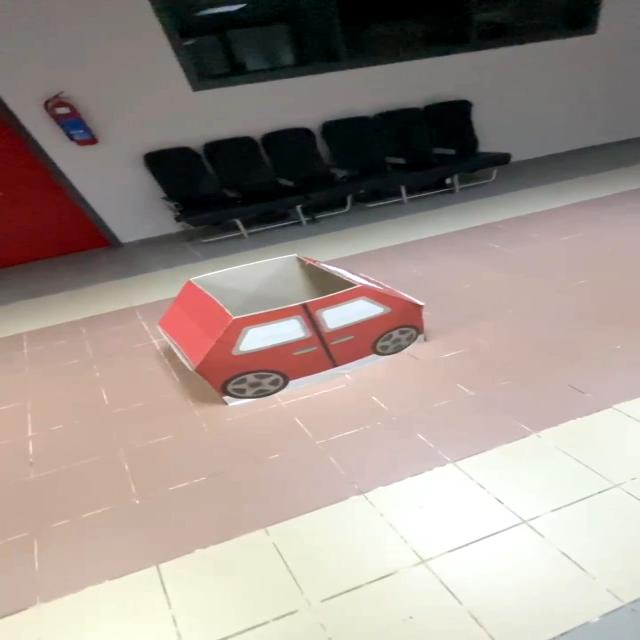red_car: (144, 242, 455, 420)
